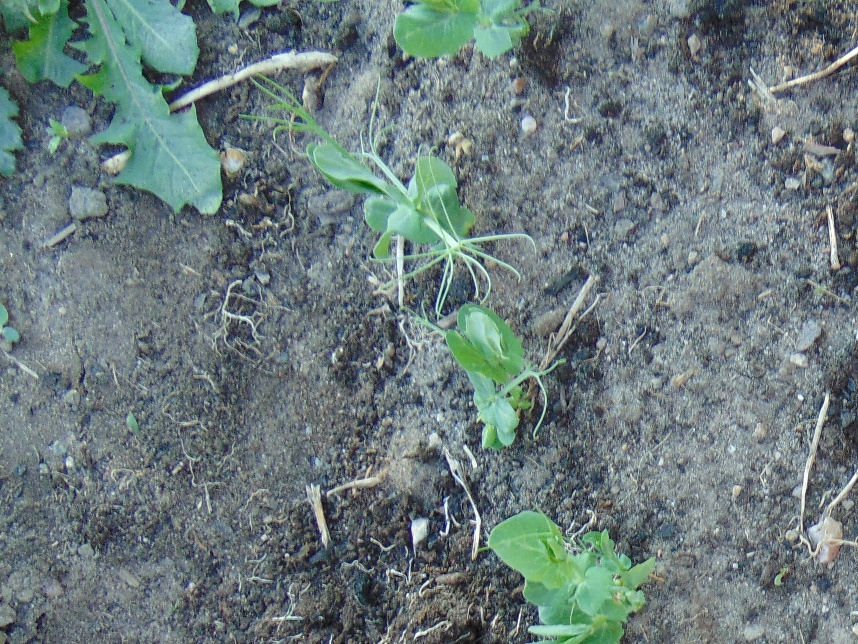crop: (279, 91, 511, 294), (483, 505, 653, 644), (411, 299, 557, 452), (392, 1, 543, 65)
weed: (1, 1, 227, 217), (204, 1, 285, 21), (1, 300, 21, 345)
